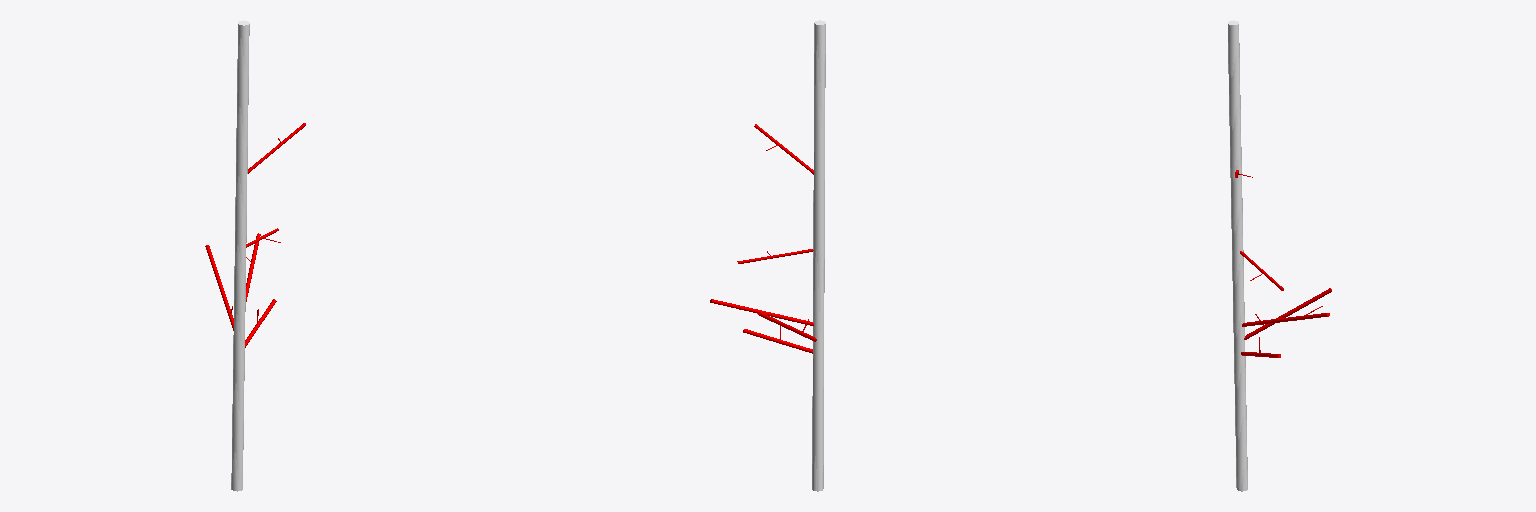
URDF robot description (tree_100.urdf):
<?xml version='1.0' encoding='UTF-8'?>
<robot name="tree_100.urdf">
  <link name="branch_0">
    <inertial>
      <origin xyz="0.0 0.0 0.0" rpy="0.0 -0.0 0.0"/>
      <mass value="0.1"/>
      <inertia ixx="0.001" ixy="0.0" ixz="0.0" iyy="0.001" iyz="0.0" izz="0.001"/>
    </inertial>
    <visual name="branch_0_visual">
      <geometry>
        <cylinder radius="0.1300346016063631" length="11.530072133398374"/>
      </geometry>
      <material name="branch_material"/>
      <origin xyz="0.028644819600504096 -0.10086884637885535 5.764082390153934" rpy="0.0 0.018189489959984515 -1.2941000213377996"/>
    </visual>
    <collision name="branch_0_collision">
      <geometry>
        <cylinder radius="0.1300346016063631" length="11.530072133398374"/>
      </geometry>
      <origin xyz="0.028644819600504096 -0.10086884637885535 5.764082390153934" rpy="0.0 0.018189489959984515 -1.2941000213377996"/>
    </collision>
  </link>
  <link name="branch_1">
    <inertial>
      <origin xyz="0.0 0.0 0.0" rpy="0.0 -0.0 0.0"/>
      <mass value="0.1"/>
      <inertia ixx="0.001" ixy="0.0" ixz="0.0" iyy="0.001" iyz="0.0" izz="0.001"/>
    </inertial>
    <visual name="branch_1_visual">
      <geometry>
        <cylinder radius="0.03438072035013167" length="1.8622904483748621"/>
      </geometry>
      <material name="semantic_material"/>
      <origin xyz="0.0 0.0 0.0" rpy="0.0 -0.0 0.0"/>
    </visual>
    <collision name="branch_1_collision">
      <geometry>
        <cylinder radius="0.03438072035013167" length="1.8622904483748621"/>
      </geometry>
      <origin xyz="0.0 0.0 0.0" rpy="0.0 -0.0 0.0"/>
    </collision>
  </link>
  <link name="branch_2">
    <inertial>
      <origin xyz="0.0 0.0 0.0" rpy="0.0 -0.0 0.0"/>
      <mass value="0.1"/>
      <inertia ixx="0.001" ixy="0.0" ixz="0.0" iyy="0.001" iyz="0.0" izz="0.001"/>
    </inertial>
    <visual name="branch_2_visual">
      <geometry>
        <cylinder radius="0.01" length="0.44585616209993273"/>
      </geometry>
      <material name="semantic_material"/>
      <origin xyz="0.0 0.0 0.0" rpy="0.0 -0.0 0.0"/>
    </visual>
    <collision name="branch_2_collision">
      <geometry>
        <cylinder radius="0.01" length="0.44585616209993273"/>
      </geometry>
      <origin xyz="0.0 0.0 0.0" rpy="0.0 -0.0 0.0"/>
    </collision>
  </link>
  <link name="branch_3">
    <inertial>
      <origin xyz="0.0 0.0 0.0" rpy="0.0 -0.0 0.0"/>
      <mass value="0.1"/>
      <inertia ixx="0.001" ixy="0.0" ixz="0.0" iyy="0.001" iyz="0.0" izz="0.001"/>
    </inertial>
    <visual name="branch_3_visual">
      <geometry>
        <cylinder radius="0.046451324963606856" length="2.5334716289237136"/>
      </geometry>
      <material name="semantic_material"/>
      <origin xyz="0.0 0.0 0.0" rpy="0.0 -0.0 0.0"/>
    </visual>
    <collision name="branch_3_collision">
      <geometry>
        <cylinder radius="0.046451324963606856" length="2.5334716289237136"/>
      </geometry>
      <origin xyz="0.0 0.0 0.0" rpy="0.0 -0.0 0.0"/>
    </collision>
  </link>
  <link name="branch_4">
    <inertial>
      <origin xyz="0.0 0.0 0.0" rpy="0.0 -0.0 0.0"/>
      <mass value="0.1"/>
      <inertia ixx="0.001" ixy="0.0" ixz="0.0" iyy="0.001" iyz="0.0" izz="0.001"/>
    </inertial>
    <visual name="branch_4_visual">
      <geometry>
        <cylinder radius="0.013297700939450876" length="0.36487378494356365"/>
      </geometry>
      <material name="semantic_material"/>
      <origin xyz="0.0 0.0 0.0" rpy="0.0 -0.0 0.0"/>
    </visual>
    <collision name="branch_4_collision">
      <geometry>
        <cylinder radius="0.013297700939450876" length="0.36487378494356365"/>
      </geometry>
      <origin xyz="0.0 0.0 0.0" rpy="0.0 -0.0 0.0"/>
    </collision>
  </link>
  <link name="branch_5">
    <inertial>
      <origin xyz="0.0 0.0 0.0" rpy="0.0 -0.0 0.0"/>
      <mass value="0.1"/>
      <inertia ixx="0.001" ixy="0.0" ixz="0.0" iyy="0.001" iyz="0.0" izz="0.001"/>
    </inertial>
    <visual name="branch_5_visual">
      <geometry>
        <cylinder radius="0.04503571105394811" length="2.7893950629296906"/>
      </geometry>
      <material name="semantic_material"/>
      <origin xyz="0.0 0.0 0.0" rpy="0.0 -0.0 0.0"/>
    </visual>
    <collision name="branch_5_collision">
      <geometry>
        <cylinder radius="0.04503571105394811" length="2.7893950629296906"/>
      </geometry>
      <origin xyz="0.0 0.0 0.0" rpy="0.0 -0.0 0.0"/>
    </collision>
  </link>
  <link name="branch_6">
    <inertial>
      <origin xyz="0.0 0.0 0.0" rpy="0.0 -0.0 0.0"/>
      <mass value="0.1"/>
      <inertia ixx="0.001" ixy="0.0" ixz="0.0" iyy="0.001" iyz="0.0" izz="0.001"/>
    </inertial>
    <visual name="branch_6_visual">
      <geometry>
        <cylinder radius="0.011558687762395558" length="0.5779418987136636"/>
      </geometry>
      <material name="semantic_material"/>
      <origin xyz="0.0 0.0 0.0" rpy="0.0 -0.0 0.0"/>
    </visual>
    <collision name="branch_6_collision">
      <geometry>
        <cylinder radius="0.011558687762395558" length="0.5779418987136636"/>
      </geometry>
      <origin xyz="0.0 0.0 0.0" rpy="0.0 -0.0 0.0"/>
    </collision>
  </link>
  <link name="branch_7">
    <inertial>
      <origin xyz="0.0 0.0 0.0" rpy="0.0 -0.0 0.0"/>
      <mass value="0.1"/>
      <inertia ixx="0.001" ixy="0.0" ixz="0.0" iyy="0.001" iyz="0.0" izz="0.001"/>
    </inertial>
    <visual name="branch_7_visual">
      <geometry>
        <cylinder radius="0.038173090191541095" length="1.8947998732057243"/>
      </geometry>
      <material name="semantic_material"/>
      <origin xyz="0.0 0.0 0.0" rpy="0.0 -0.0 0.0"/>
    </visual>
    <collision name="branch_7_collision">
      <geometry>
        <cylinder radius="0.038173090191541095" length="1.8947998732057243"/>
      </geometry>
      <origin xyz="0.0 0.0 0.0" rpy="0.0 -0.0 0.0"/>
    </collision>
  </link>
  <link name="branch_8">
    <inertial>
      <origin xyz="0.0 0.0 0.0" rpy="0.0 -0.0 0.0"/>
      <mass value="0.1"/>
      <inertia ixx="0.001" ixy="0.0" ixz="0.0" iyy="0.001" iyz="0.0" izz="0.001"/>
    </inertial>
    <visual name="branch_8_visual">
      <geometry>
        <cylinder radius="0.01" length="0.37940138767708526"/>
      </geometry>
      <material name="semantic_material"/>
      <origin xyz="0.0 0.0 0.0" rpy="0.0 -0.0 0.0"/>
    </visual>
    <collision name="branch_8_collision">
      <geometry>
        <cylinder radius="0.01" length="0.37940138767708526"/>
      </geometry>
      <origin xyz="0.0 0.0 0.0" rpy="0.0 -0.0 0.0"/>
    </collision>
  </link>
  <link name="branch_9">
    <inertial>
      <origin xyz="0.0 0.0 0.0" rpy="0.0 -0.0 0.0"/>
      <mass value="0.1"/>
      <inertia ixx="0.001" ixy="0.0" ixz="0.0" iyy="0.001" iyz="0.0" izz="0.001"/>
    </inertial>
    <visual name="branch_9_visual">
      <geometry>
        <cylinder radius="0.046457345620369433" length="1.7917184061653715"/>
      </geometry>
      <material name="semantic_material"/>
      <origin xyz="0.0 0.0 0.0" rpy="0.0 -0.0 0.0"/>
    </visual>
    <collision name="branch_9_collision">
      <geometry>
        <cylinder radius="0.046457345620369433" length="1.7917184061653715"/>
      </geometry>
      <origin xyz="0.0 0.0 0.0" rpy="0.0 -0.0 0.0"/>
    </collision>
  </link>
  <link name="branch_10">
    <inertial>
      <origin xyz="0.0 0.0 0.0" rpy="0.0 -0.0 0.0"/>
      <mass value="0.1"/>
      <inertia ixx="0.001" ixy="0.0" ixz="0.0" iyy="0.001" iyz="0.0" izz="0.001"/>
    </inertial>
    <visual name="branch_10_visual">
      <geometry>
        <cylinder radius="0.01517771701984018" length="0.4276645962429098"/>
      </geometry>
      <material name="semantic_material"/>
      <origin xyz="0.0 0.0 0.0" rpy="0.0 -0.0 0.0"/>
    </visual>
    <collision name="branch_10_collision">
      <geometry>
        <cylinder radius="0.01517771701984018" length="0.4276645962429098"/>
      </geometry>
      <origin xyz="0.0 0.0 0.0" rpy="0.0 -0.0 0.0"/>
    </collision>
  </link>
  <joint name="joint_0_1" type="fixed">
    <parent link="branch_0"/>
    <child link="branch_1"/>
    <axis xyz="1. 0. 0."/>
    <origin xyz="0.7962791820388972 0.40428817655167193 5.786208710749193" rpy="3.030337774464901 1.4139265923054112 -2.6690474710078207"/>
  </joint>
  <joint name="joint_0_3" type="fixed">
    <parent link="branch_0"/>
    <child link="branch_3"/>
    <axis xyz="1. 0. 0."/>
    <origin xyz="0.19961979436312222 0.9627509761253659 4.373734870759925" rpy="0.013821608115054299 0.9667292754702572 1.412655216433923"/>
  </joint>
  <joint name="joint_0_5" type="fixed">
    <parent link="branch_0"/>
    <child link="branch_5"/>
    <axis xyz="1. 0. 0."/>
    <origin xyz="0.8443245327066323 0.9280710951102182 4.564674938106689" rpy="0.04013404091058207 1.1901384649641167 0.9241442197591357"/>
  </joint>
  <joint name="joint_0_7" type="fixed">
    <parent link="branch_0"/>
    <child link="branch_7"/>
    <axis xyz="1. 0. 0."/>
    <origin xyz="0.8688032975160287 -0.12264339741833807 8.172004605058357" rpy="0.036594433113277994 1.0685122563348086 0.05666013697134729"/>
  </joint>
  <joint name="joint_0_9" type="fixed">
    <parent link="branch_0"/>
    <child link="branch_9"/>
    <axis xyz="1. 0. 0."/>
    <origin xyz="0.7335537412129262 0.387723701745879 3.6556000503451793" rpy="0.05224965847665197 1.2301723898771428 0.6124406986125358"/>
  </joint>
  <joint name="joint_1_2" type="fixed">
    <parent link="branch_0"/>
    <child link="branch_2"/>
    <axis xyz="1. 0. 0."/>
    <origin xyz="1.0733089266031919 0.32640905639593415 5.731162615551186" rpy="-1.711737660006757 -0.13304823596919704 -2.3775920261668837"/>
  </joint>
  <joint name="joint_3_4" type="fixed">
    <parent link="branch_0"/>
    <child link="branch_4"/>
    <axis xyz="1. 0. 0."/>
    <origin xyz="0.08838390521579301 0.3999430680566042 4.199101886848087" rpy="0.06457304377765123 0.6263108199989056 -1.743977928869311"/>
  </joint>
  <joint name="joint_5_6" type="fixed">
    <parent link="branch_0"/>
    <child link="branch_6"/>
    <axis xyz="1. 0. 0."/>
    <origin xyz="1.0712949332474535 1.549745572436352 4.868939206021099" rpy="1.159884349229068 0.16182218834835366 -2.92129615578222"/>
  </joint>
  <joint name="joint_7_8" type="fixed">
    <parent link="branch_0"/>
    <child link="branch_8"/>
    <axis xyz="1. 0. 0."/>
    <origin xyz="1.1385782973791083 0.06006378409113888 8.268631667226078" rpy="1.6919933053839993 0.5456113574618358 2.892246505378477"/>
  </joint>
  <joint name="joint_9_10" type="fixed">
    <parent link="branch_0"/>
    <child link="branch_10"/>
    <axis xyz="1. 0. 0."/>
    <origin xyz="0.7540194913037149 0.38637689465957054 3.8750451695554635" rpy="-0.05594814571070037 0.0017906123738433907 -2.564858778354008"/>
  </joint>
  <material name="branch_material">
    <color rgba="1. 1. 1. 1."/>
  </material>
  <material name="semantic_material">
    <color rgba="1. 0. 0. 1."/>
  </material>
</robot>

--- Facts derived from the render (not from the file) ---
Views: 3 orthographic renders of the robot side by side, from view 1: azimuth 30°, elevation 25°; view 2: azimuth 150°, elevation 25°; view 3: azimuth 270°, elevation 25°.
Robot: tree_100.urdf — 11 links, 10 joints (10 fixed); root link branch_0; default pose: all joints at 0.
Visible links, largest first — view 1: branch_0; view 2: branch_0; view 3: branch_0.
Link boxes in pixels (x1,y1,x2,y2): branch_0: (231, 20, 249, 491); branch_0: (812, 20, 825, 491); branch_0: (1228, 20, 1247, 491).
Bounding box of the posed robot: 1.85 × 2.35 × 11.53 m (x, y, z).
Geometry: primitives only (box / cylinder / sphere), no mesh files.
